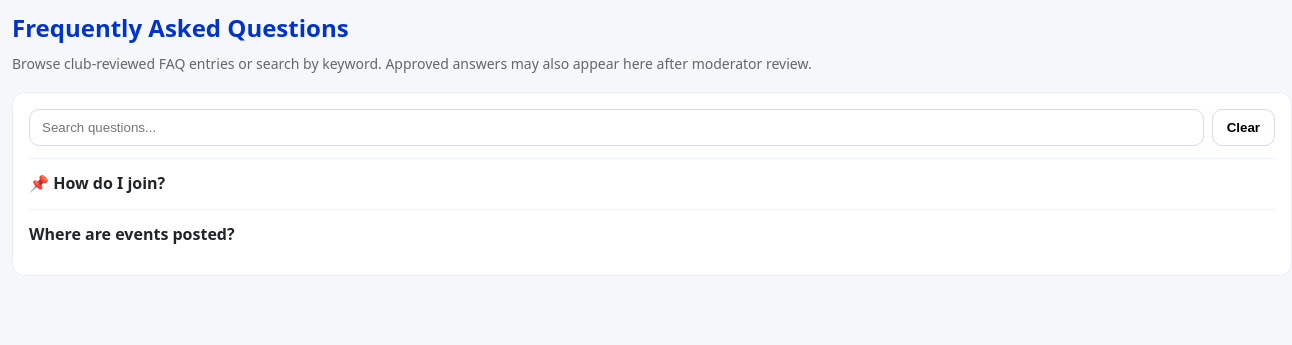
Test case: FaqBrowse (canonical /ask FAQ surface) › increments view count and posts to the view API when an entry expands
Expected: the text "📌 How do I join?" is shown, [29,172,165,194]
Click the button "📌 How do I join?": (109, 183) [29,158,1275,209]
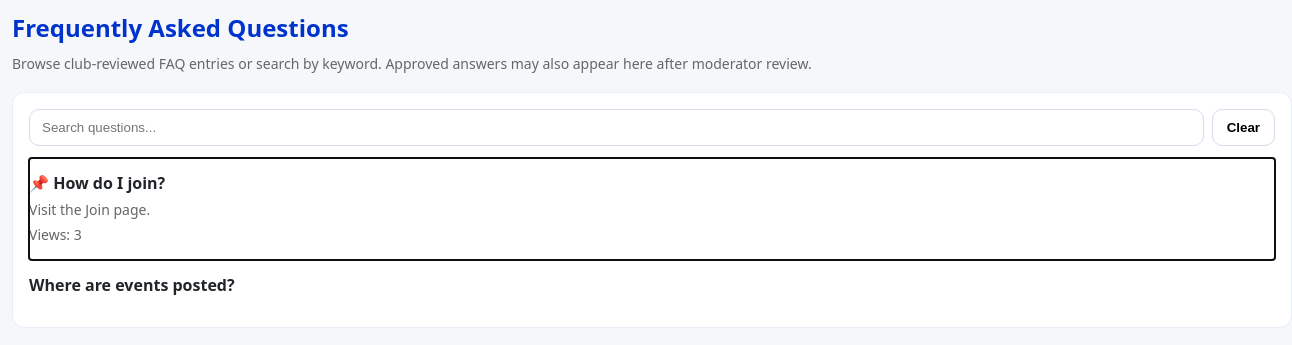
Now the text "Views: 3" is shown, box [29,225,82,244]
